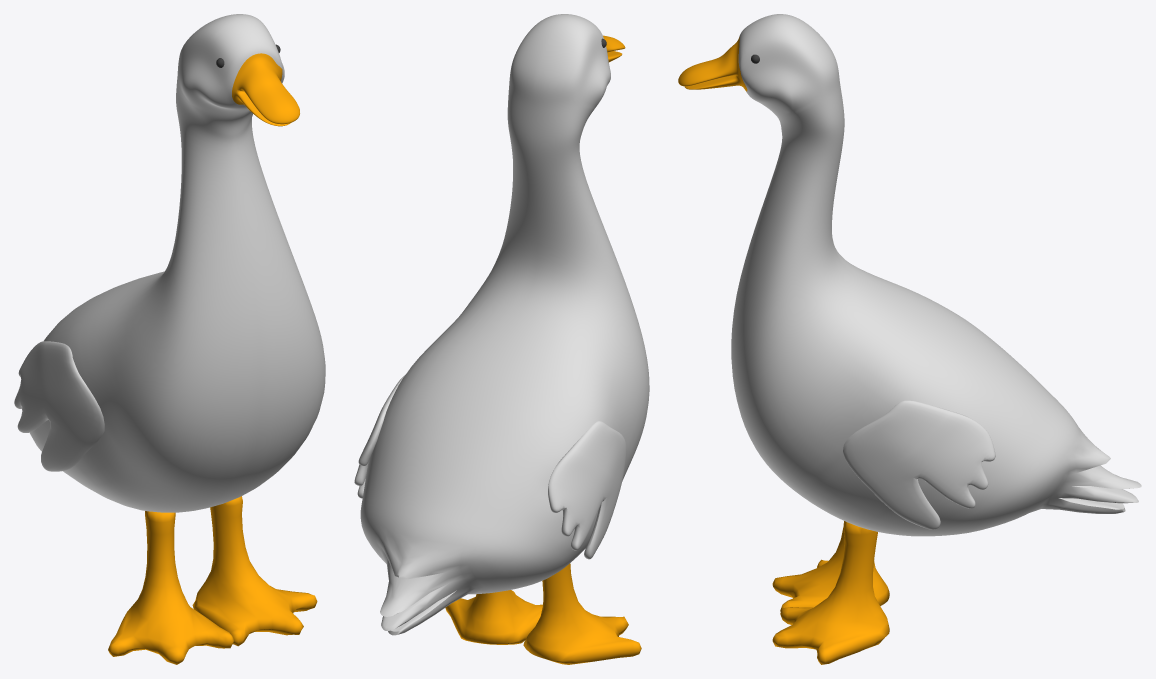
The model's file is duk.glb.
3 renders of one model, left to right at view 1: azimuth 30°, elevation 25°; view 2: azimuth 150°, elevation 25°; view 3: azimuth 270°, elevation 25°, orthographic. The views are drawn at different scales.
Parts seen in each view (by area): view 1: pCube2; view 2: pCube2; view 3: pCube2.
Part boxes in pixels (x1,y1,x2,y2): pCube2: [14, 14, 325, 664]; pCube2: [354, 14, 649, 664]; pCube2: [678, 14, 1141, 664].
Bounding box in the file's own units: 0.0142 × 0.0367 × 0.0256.
